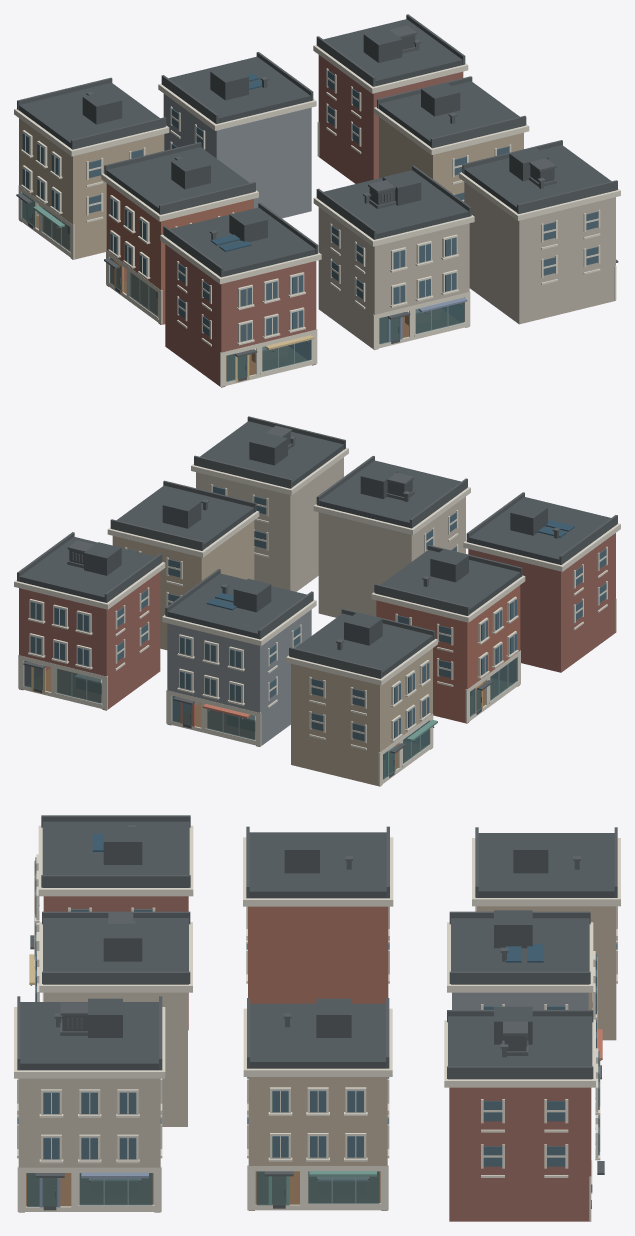
File: downtown-block-m2-p0.glb
3 views of the same model, one above another, from view 1: azimuth 30°, elevation 25°; view 2: azimuth 150°, elevation 25°; view 3: azimuth 270°, elevation 25° (orthographic). The views are drawn at different scales.
Parts seen in each view (by area): view 1: urban_townhouse_08.003, urban_townhouse_09.003, urban_townhouse_09.001, urban_townhouse_11.004, urban_townhouse_12.002, urban_townhouse_10.004, urban_townhouse_13.005, urban_townhouse_11.002; view 2: urban_townhouse_11.004, urban_townhouse_13.005, urban_townhouse_12.002, urban_townhouse_08.003, urban_townhouse_10.004, urban_townhouse_09.003, urban_townhouse_09.001, urban_townhouse_11.002; view 3: urban_townhouse_13.005, urban_townhouse_09.001, urban_townhouse_11.002, urban_townhouse_10.004, urban_townhouse_09.003, urban_townhouse_08.003, urban_townhouse_12.002, urban_townhouse_11.004.
Part boxes in pixels (x1,y1,x2,y2): urban_townhouse_08.003: (160,202,321,387); urban_townhouse_09.003: (313,165,474,349); urban_townhouse_09.001: (459,140,620,324); urban_townhouse_11.004: (14,77,169,259); urban_townhouse_12.002: (158,52,316,218); urban_townhouse_10.004: (101,142,258,324); urban_townhouse_13.005: (313,14,468,183); urban_townhouse_11.002: (374,76,529,201); urban_townhouse_11.004: (286,608,437,786); urban_townhouse_13.005: (14,532,165,710); urban_townhouse_12.002: (162,569,316,746); urban_townhouse_08.003: (463,492,620,672); urban_townhouse_10.004: (371,545,525,723); urban_townhouse_09.003: (313,456,470,617); urban_townhouse_09.001: (191,416,348,591); urban_townhouse_11.002: (107,480,259,650); urban_townhouse_13.005: (444,1006,604,1221); urban_townhouse_09.001: (14,996,165,1212); urban_townhouse_11.002: (243,998,392,1210); urban_townhouse_10.004: (243,826,393,1003); urban_townhouse_09.003: (35,911,192,1126); urban_townhouse_08.003: (29,815,193,1030); urban_townhouse_12.002: (447,910,602,1079); urban_townhouse_11.004: (472,827,620,1040).
Bounding box in the file's own units: 34.38 × 10.84 × 34.55.
